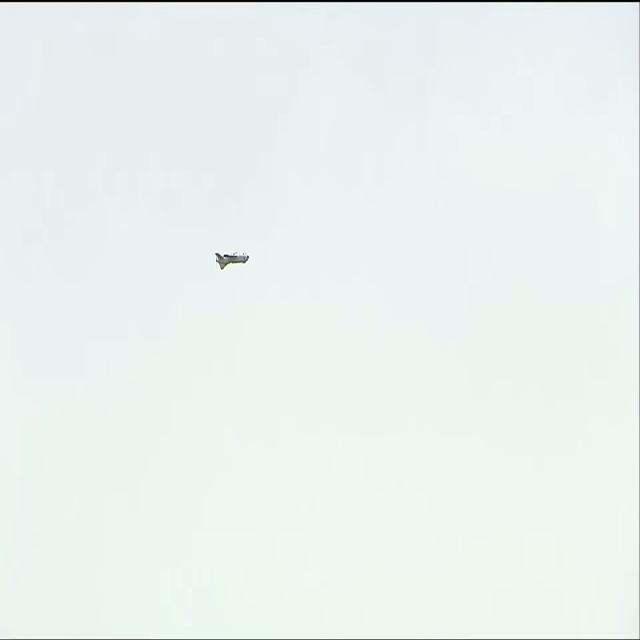iha: (215, 249, 251, 271)
